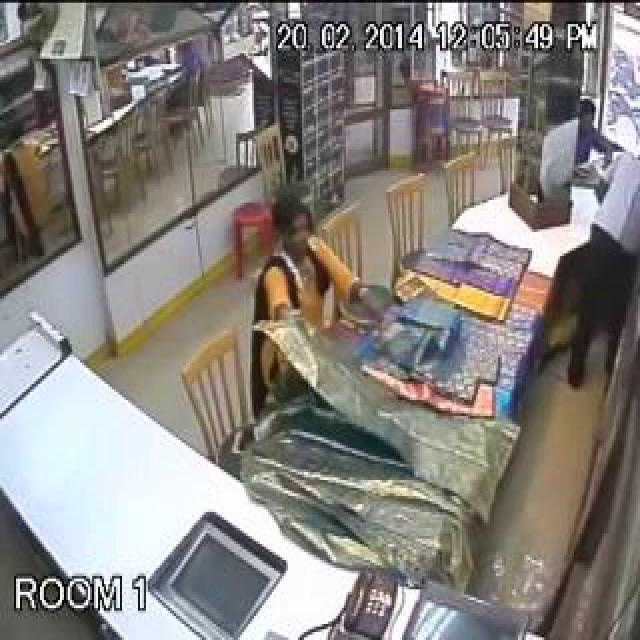shoplifting: (221, 95, 497, 614)
